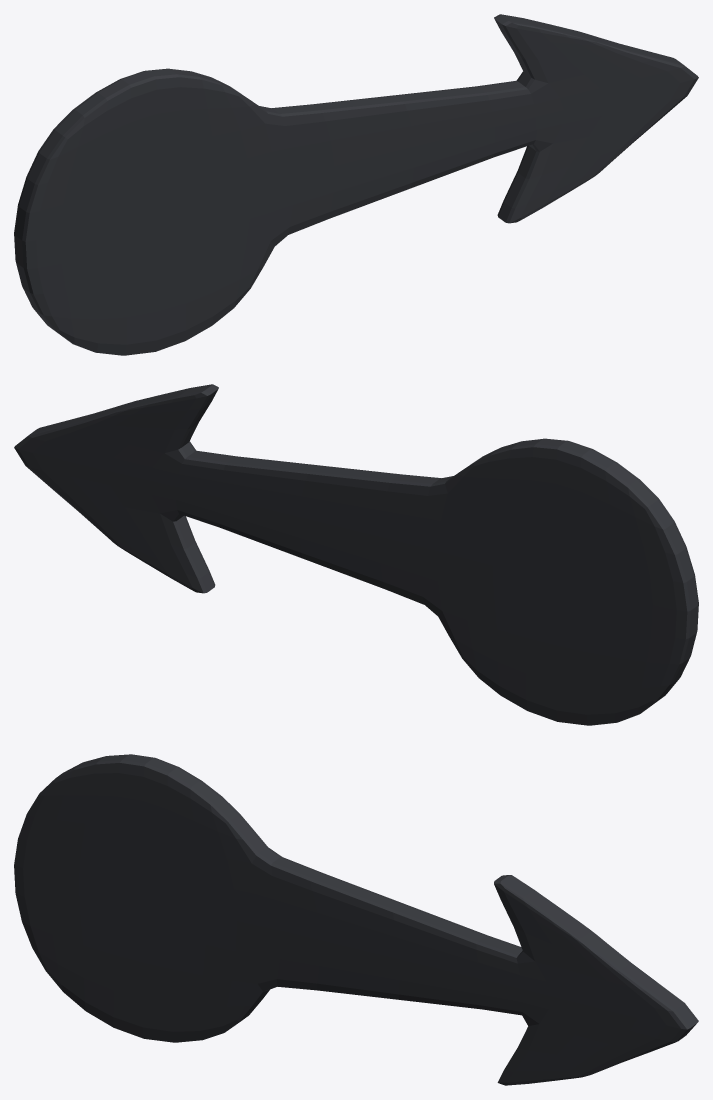
File: ElevatorArrow_FBX.fbx
3 renders of one model, top to bottom at view 1: azimuth 30°, elevation 25°; view 2: azimuth 150°, elevation 25°; view 3: azimuth 330°, elevation 25°, orthographic.
Visible parts, largest first — view 1: Cube.002; view 2: Cube.002; view 3: Cube.002.
Boxes of the visible parts, x1,y1,x2,y2 form: Cube.002: (14,14,698,355); Cube.002: (14,384,698,725); Cube.002: (14,754,698,1085).
Bounding box in the file's own units: 33.13 × 12.92 × 1.16.
